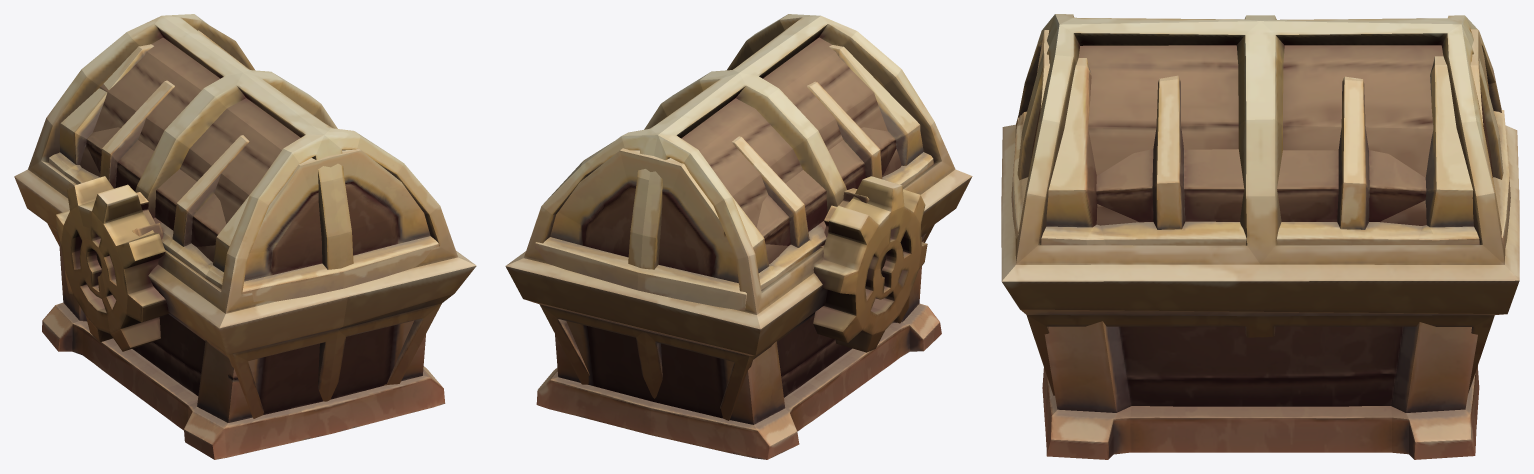
File: F_chests_01.fbx
3 renders of one model, left to right at view 1: azimuth 30°, elevation 25°; view 2: azimuth 150°, elevation 25°; view 3: azimuth 270°, elevation 25°, orthographic. The views are drawn at different scales.
Parts seen in each view (by area): view 1: f_chest_01, f_chest_02; view 2: f_chest_01, f_chest_02; view 3: f_chest_01, f_chest_02.
Part boxes in pixels (x1,y1,x2,y2): f_chest_01: (14,14,476,418); f_chest_02: (42,30,445,459); f_chest_01: (505,14,972,420); f_chest_02: (535,45,941,459); f_chest_01: (1001,14,1519,395); f_chest_02: (1011,29,1510,459).
Size of the model in its own units: 0.7117 by 0.7201 by 0.9201.
